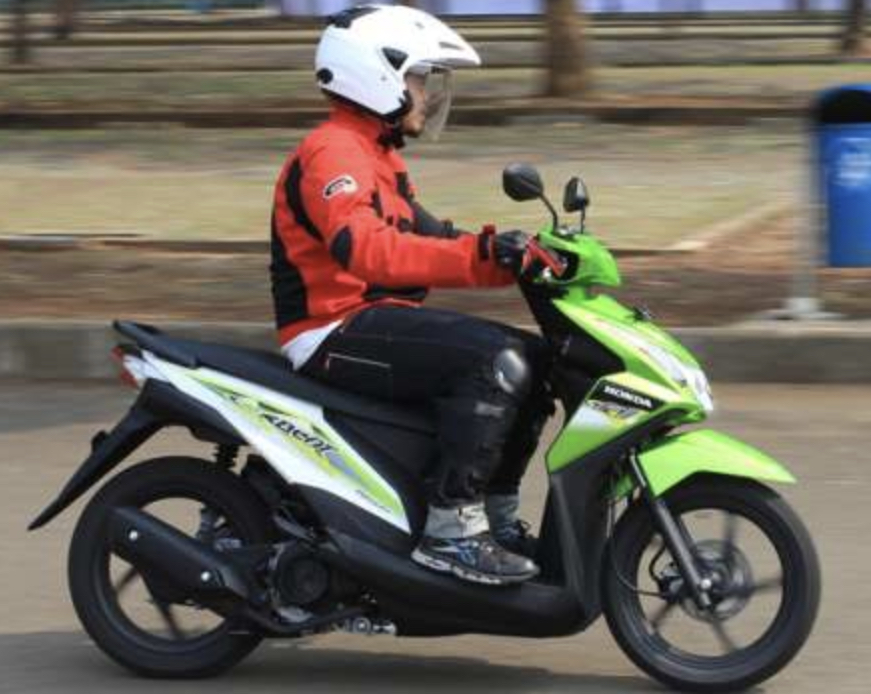Plat: (84, 206, 790, 686)
